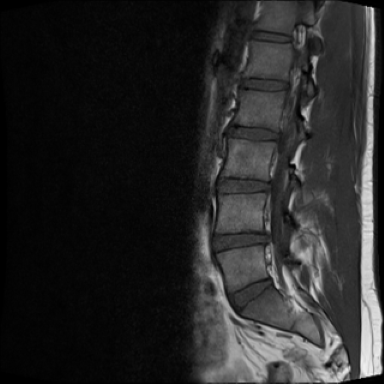Lumbar Disc Bulge (LDB): (209, 228, 277, 253), (212, 176, 275, 199)
Normal IVD: (226, 274, 275, 318), (224, 125, 281, 144), (235, 75, 289, 92)
Spinal Stenosis (SS): (257, 226, 276, 248), (258, 177, 278, 195)
